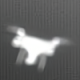plane: (6, 24, 75, 71)
